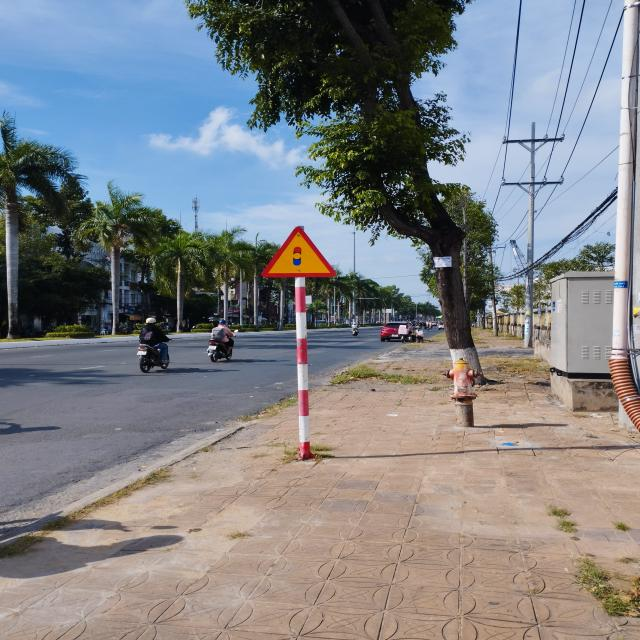Duong_Co_Go_Giam_Toc: (261, 227, 334, 277)
